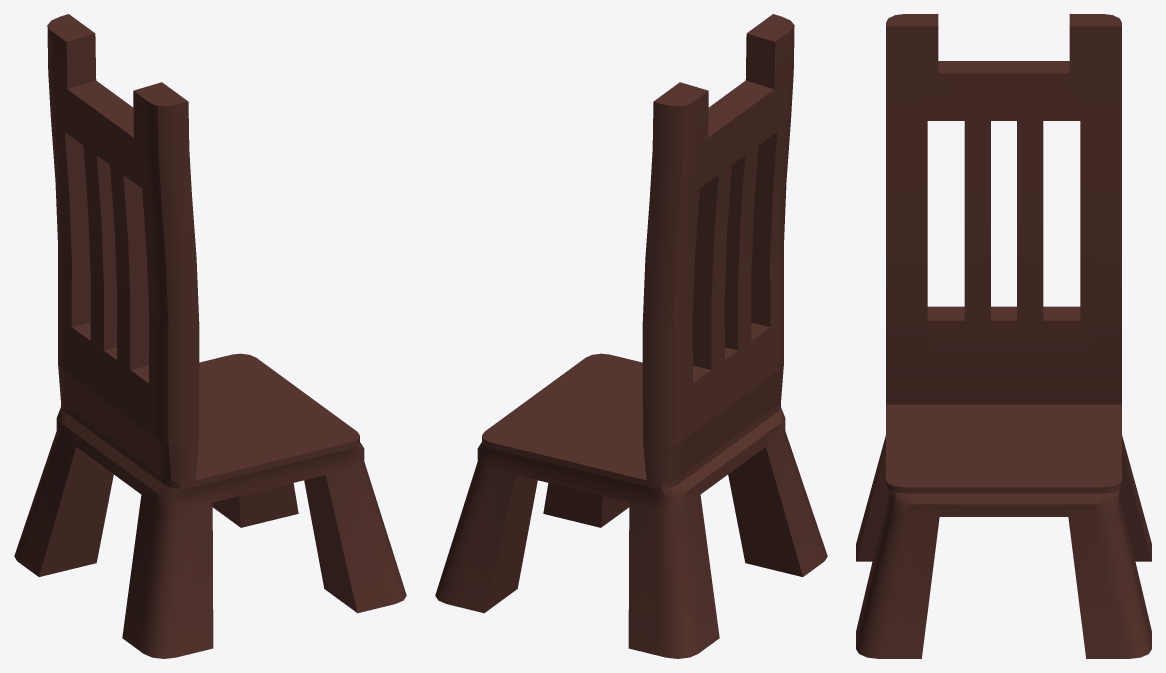
The model's file is chair3.glb.
3 renders of one model, left to right at view 1: azimuth 30°, elevation 25°; view 2: azimuth 150°, elevation 25°; view 3: azimuth 270°, elevation 25°, orthographic.
Parts seen in each view (by area): view 1: Chair2.001; view 2: Chair2.001; view 3: Chair2.001.
Part boxes in pixels (left/top/right/bottom): Chair2.001: left=14, top=14, right=406, bottom=658; Chair2.001: left=435, top=14, right=827, bottom=658; Chair2.001: left=856, top=14, right=1151, bottom=658.
Bounding box in the file's own units: 2.55 × 5.06 × 2.55.
